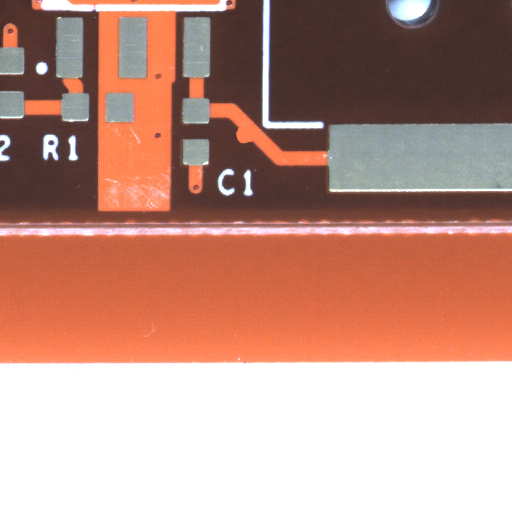Spur: (243, 135, 260, 152)
